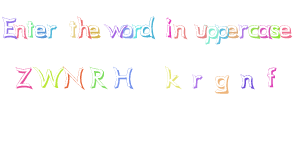E: (1, 15, 18, 40)
H: (112, 65, 135, 90)
N: (63, 65, 86, 90)
R: (89, 64, 108, 90)
W: (34, 65, 64, 89)
Z: (14, 64, 34, 90)
a: (257, 21, 272, 42)
c: (247, 22, 260, 40)
d: (141, 15, 156, 39)
e: (278, 22, 293, 40), (87, 23, 101, 40), (34, 23, 46, 40), (226, 23, 238, 39)
f: (264, 64, 278, 89)
g: (214, 73, 230, 95)
h: (76, 13, 92, 40)
i: (163, 17, 174, 40)
k: (164, 65, 181, 89)
n: (238, 72, 255, 90), (172, 21, 187, 40), (13, 23, 27, 41)
o: (119, 23, 133, 39)
p: (216, 23, 229, 46), (206, 24, 218, 46)
r: (190, 72, 203, 90), (46, 22, 58, 40), (238, 23, 249, 40), (131, 23, 143, 38)
s: (269, 23, 281, 39)
t: (25, 17, 36, 39), (67, 20, 78, 39)
u: (192, 21, 209, 39)
w: (104, 22, 124, 40)
